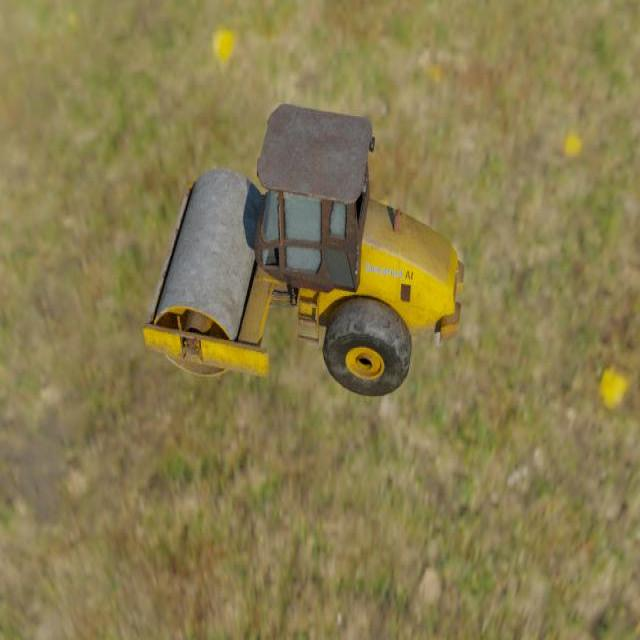Roller: (142, 103, 465, 397)
